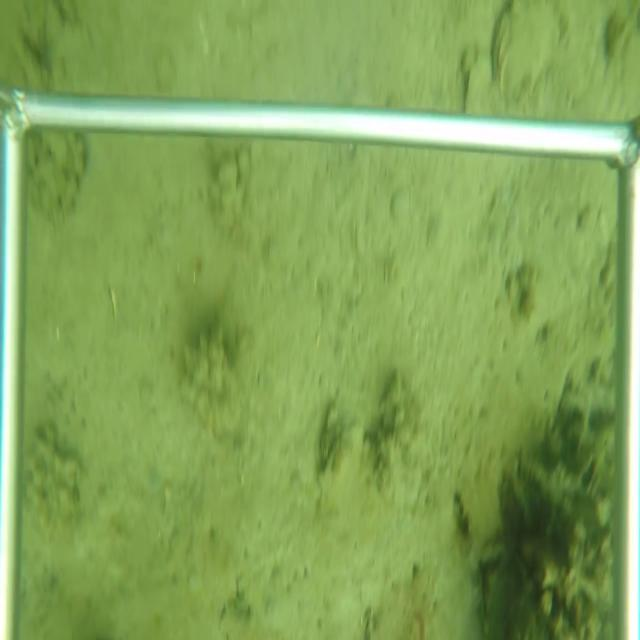Oyster-Closed: (492, 4, 568, 106)
